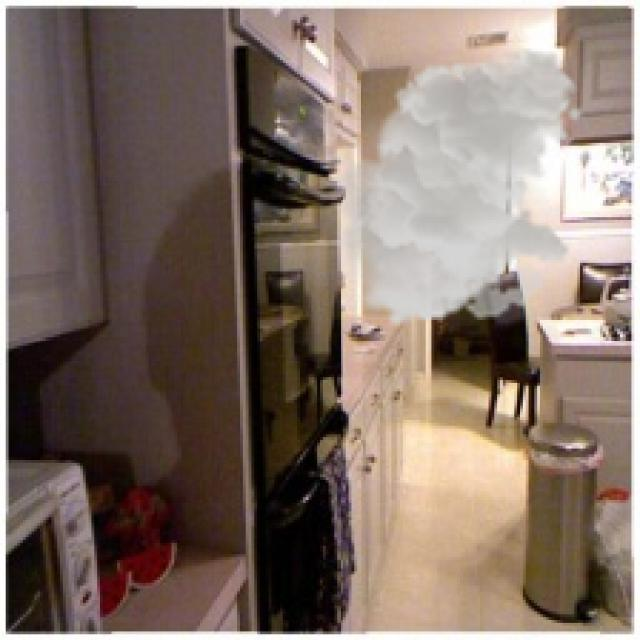smoke: (326, 49, 586, 328)
